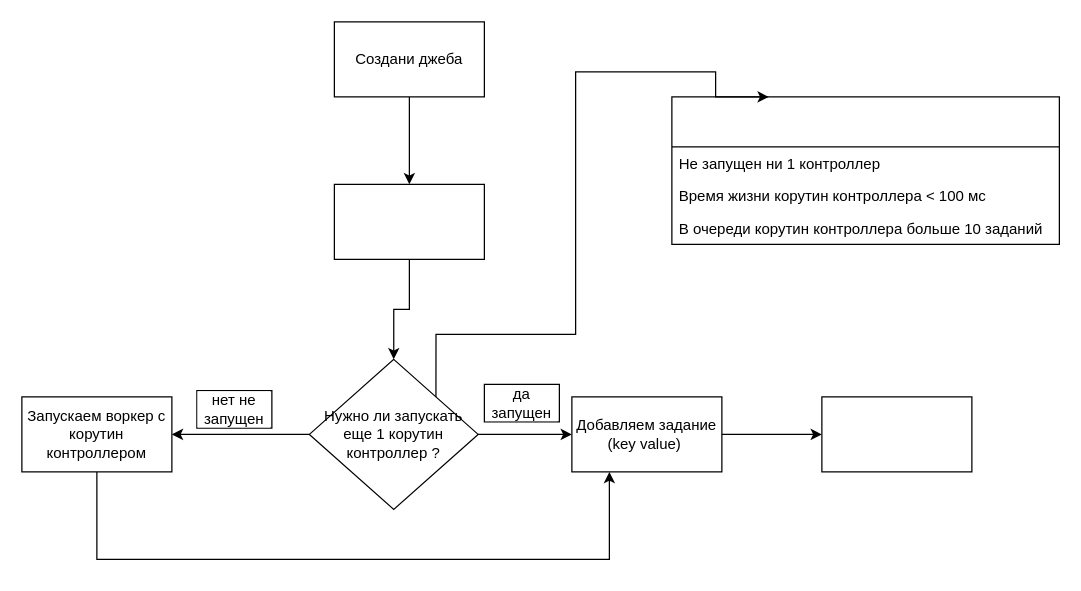
The diagram is 1081 pixels wide and 591 high, and some of its shapes have lost their labels. Here are the shapes that lost their labels. From the top down, the box of each, then its label:
(671, 96, 1059, 244): Условия запуска еще 1 корутин контроллера
(333, 183, 484, 259): Добавление Джеба в корутину
(821, 396, 972, 472): Добавляем задание в очередь для разбора корутин контроллера
